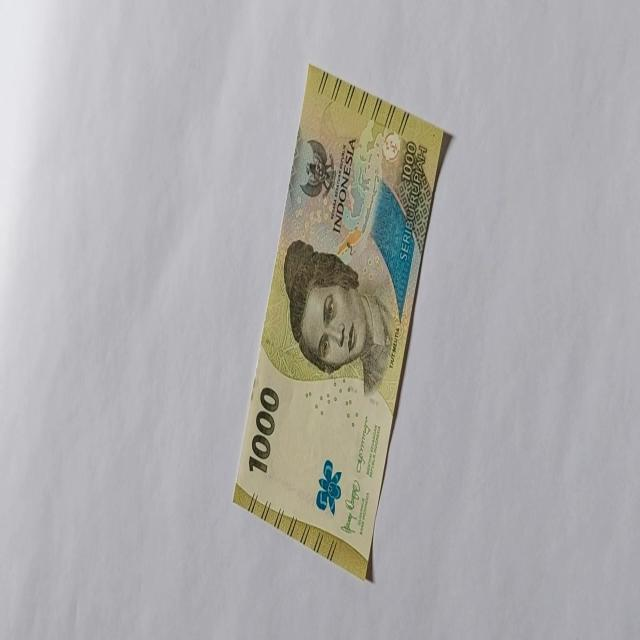seribu rupiah kertas: (231, 63, 452, 582)
